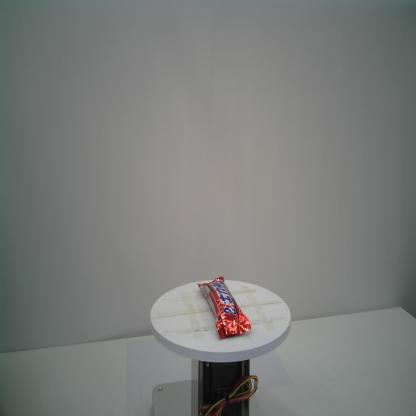Chocolate: (197, 275, 252, 340)
